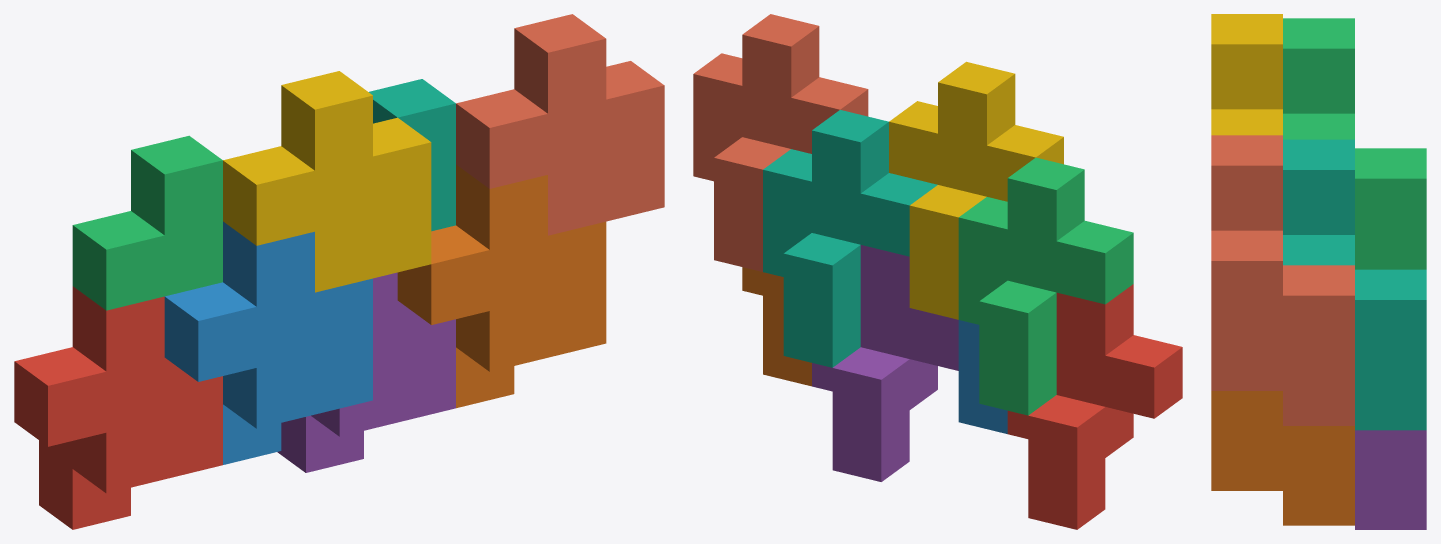
File: tiling.obj
The picture shows the model from 3 angles, left to right: view 1: azimuth 30°, elevation 25°; view 2: azimuth 150°, elevation 25°; view 3: azimuth 270°, elevation 25°; orthographic projection. The views are drawn at different scales.
Parts seen in each view (by area): view 1: copy_1_domain_1, copy_1_domain_2, copy_1_domain_8, copy_1_domain_4, copy_1_domain_6, copy_1_domain_3, copy_1_domain_5, copy_1_domain_7; view 2: copy_1_domain_3, copy_1_domain_7, copy_1_domain_1, copy_1_domain_8, copy_1_domain_4, copy_1_domain_5, copy_1_domain_6, copy_1_domain_2; view 3: copy_1_domain_8, copy_1_domain_7, copy_1_domain_3, copy_1_domain_6, copy_1_domain_4, copy_1_domain_5.
Part boxes in pixels (x1,y1,x2,y2): copy_1_domain_1: (14, 286, 222, 529); copy_1_domain_2: (164, 221, 372, 464); copy_1_domain_8: (456, 14, 664, 235); copy_1_domain_4: (223, 71, 431, 292); copy_1_domain_6: (397, 164, 606, 408); copy_1_domain_3: (72, 135, 222, 310); copy_1_domain_5: (277, 272, 455, 472); copy_1_domain_7: (369, 79, 455, 231); copy_1_domain_3: (958, 157, 1133, 415); copy_1_domain_7: (763, 110, 937, 367); copy_1_domain_1: (1007, 284, 1182, 529); copy_1_domain_8: (693, 14, 868, 271); copy_1_domain_4: (889, 61, 1063, 319); copy_1_domain_5: (812, 245, 958, 481); copy_1_domain_6: (742, 267, 811, 386); copy_1_domain_2: (958, 320, 1007, 433); copy_1_domain_8: (1211, 135, 1354, 425); copy_1_domain_7: (1283, 139, 1426, 430); copy_1_domain_3: (1283, 18, 1426, 269); copy_1_domain_6: (1211, 391, 1354, 525); copy_1_domain_4: (1211, 14, 1282, 135); copy_1_domain_5: (1355, 430, 1426, 529).
Bounding box in the file's own units: 10 × 7 × 3.
